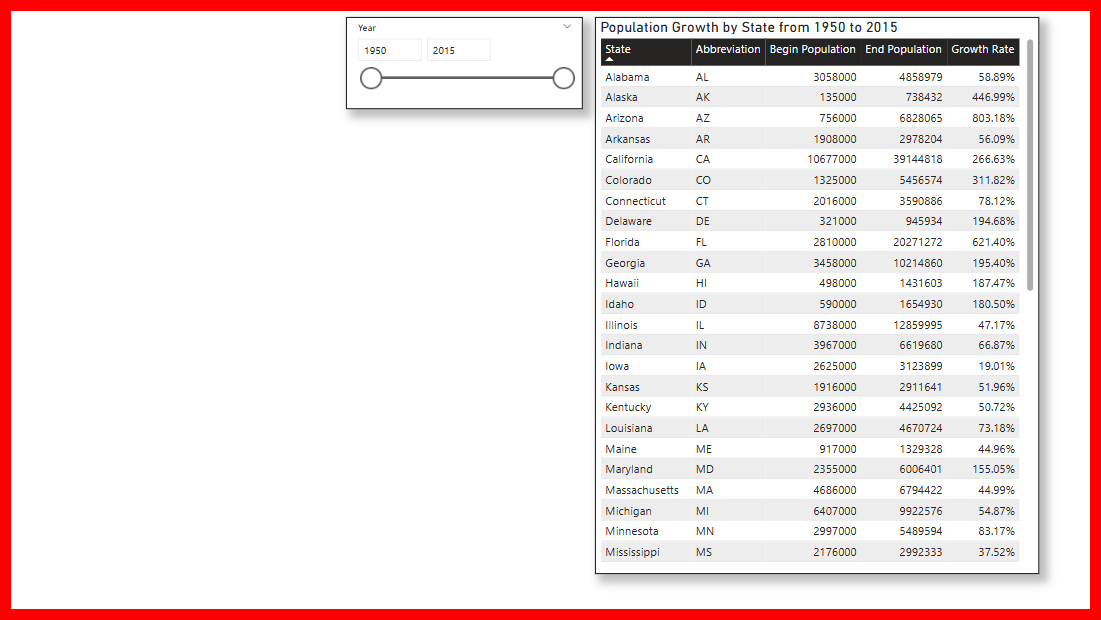

The dashboard page shown, as its layout file describes it:
{"tool":"powerbi","page":{"name":"GrowthRate","canvas":[1280,720],"ordinal":2},"visuals":[{"type":"tableEx","fields":{"Values":["States.State","States.Abbreviation","_Measure.Begin Population","_Measure.End Population","_Measure.Growth Rate"]},"box":[696.4,23.3,516.5,646.8],"z":0},{"type":"slicer","fields":{"Values":["state-population.Year"]},"box":[407.5,23.3,275.3,107],"z":1000}]}

Visuals, with their boxes in screenshot pixels (x1, y1, x2, y2), scaled from the page's 1280x720 canvas onto the 1101x620 screenshot:
tableEx - States.State x States.Abbreviation: bbox=(599, 20, 1043, 577)
slicer - state-population.Year: bbox=(351, 20, 587, 112)
